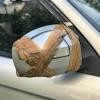Sidemirror-Damage: (9, 24, 80, 79)
